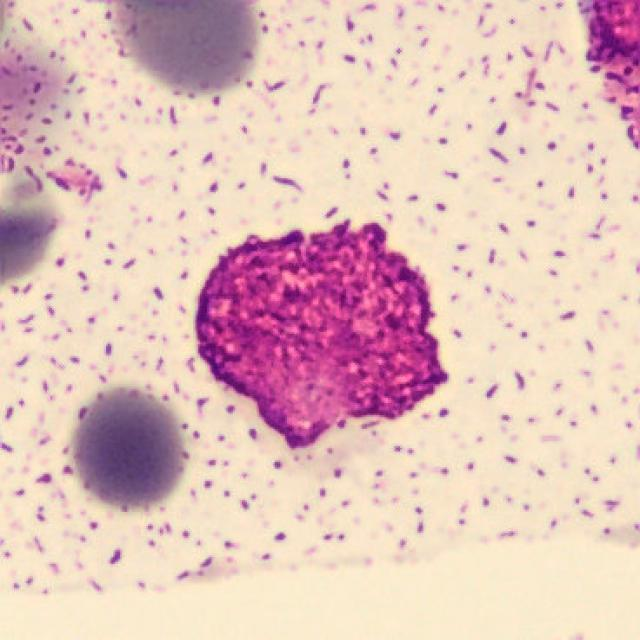Restos celulares: (195, 225, 449, 450)
